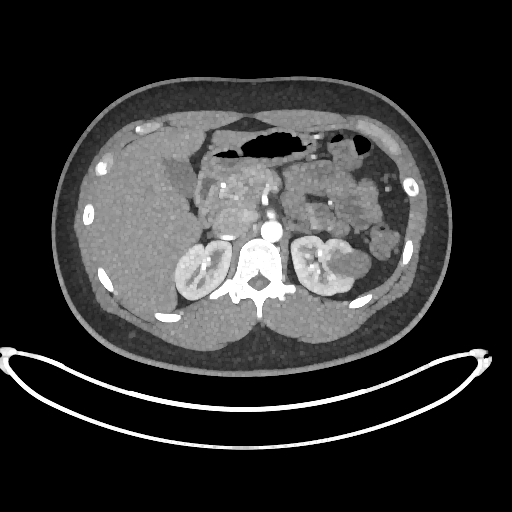Lesion: (322, 242, 373, 281)
